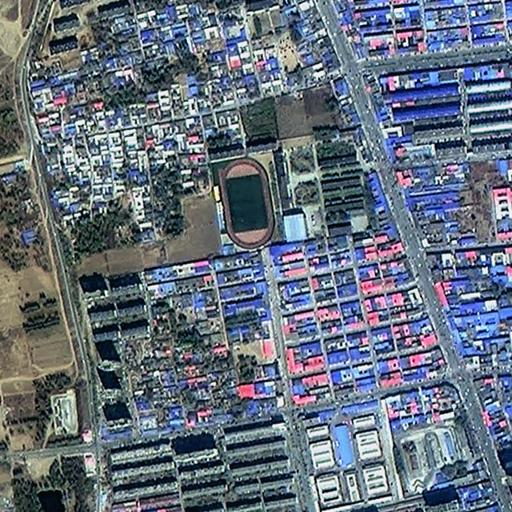school: (212, 131, 381, 256)
